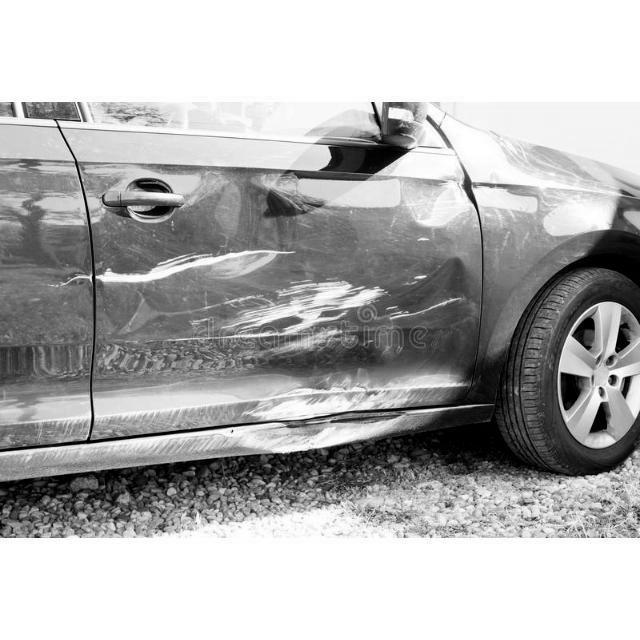Runningboard-Damage: (2, 402, 496, 454)
doorouter-dent: (70, 167, 462, 422)
